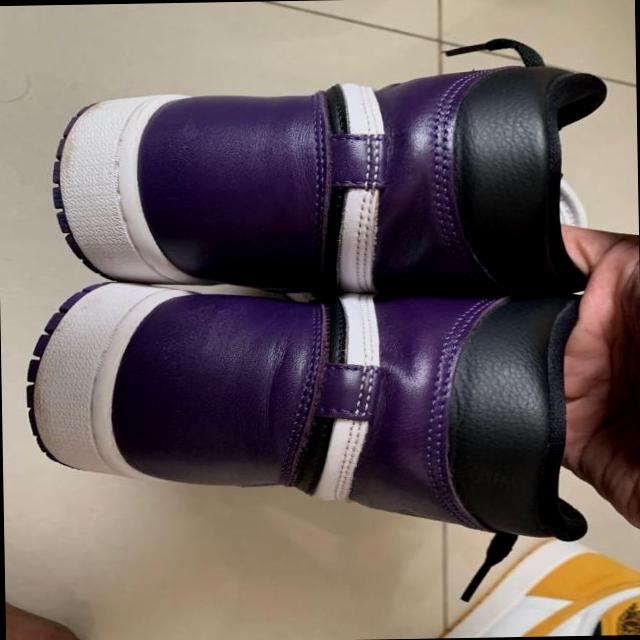nike_original_jordan: (18, 288, 588, 556), (33, 61, 616, 310)
